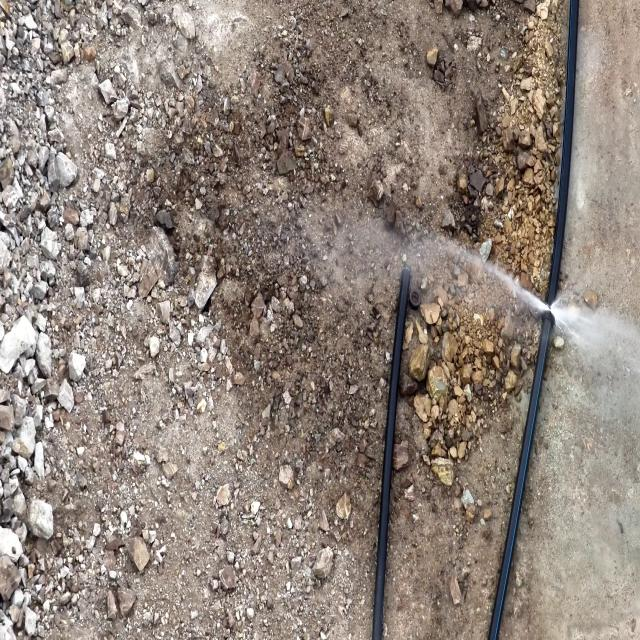leak: (410, 228, 617, 368)
